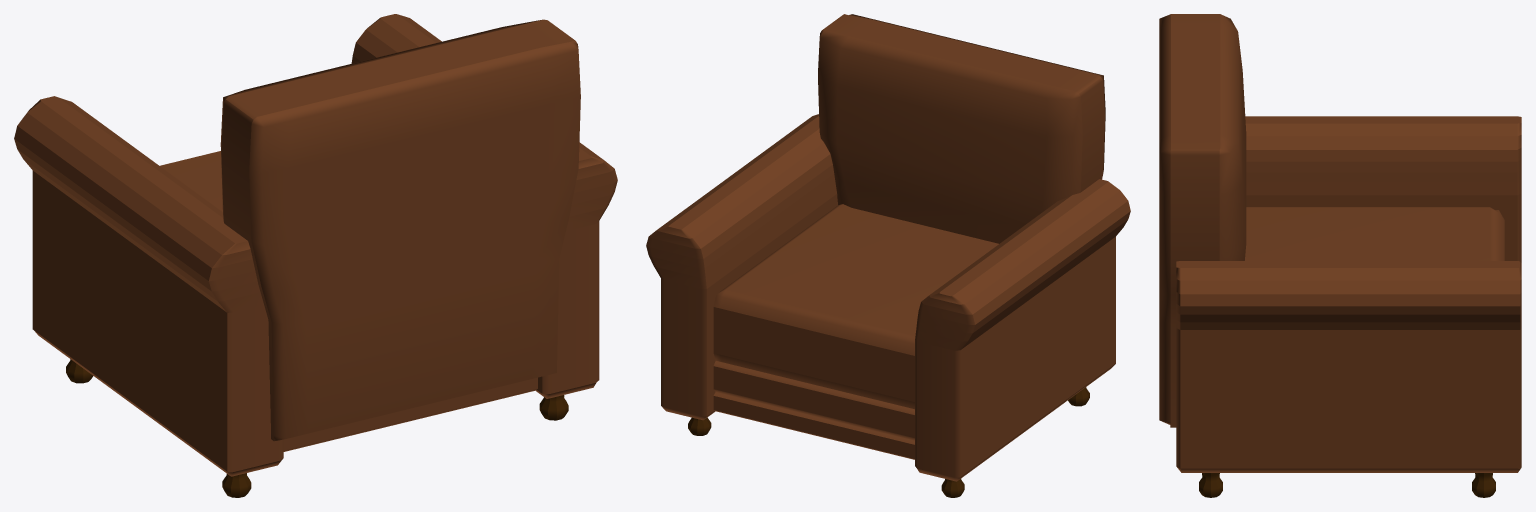
The model's file is Chill chair2.fbx.
The picture shows the model from 3 angles, left to right: view 1: azimuth 30°, elevation 25°; view 2: azimuth 150°, elevation 25°; view 3: azimuth 270°, elevation 25°; orthographic projection. The views are drawn at different scales.
Visible parts, largest first — view 1: Chille_stoel_2; view 2: Chille_stoel_2; view 3: Chille_stoel_2.
Boxes of the visible parts, bbox=[...] form: Chille_stoel_2: bbox=[14, 14, 617, 497]; Chille_stoel_2: bbox=[646, 14, 1130, 497]; Chille_stoel_2: bbox=[1159, 14, 1521, 497].
Bounding box in the file's own units: 11.59 × 10.63 × 10.16.
